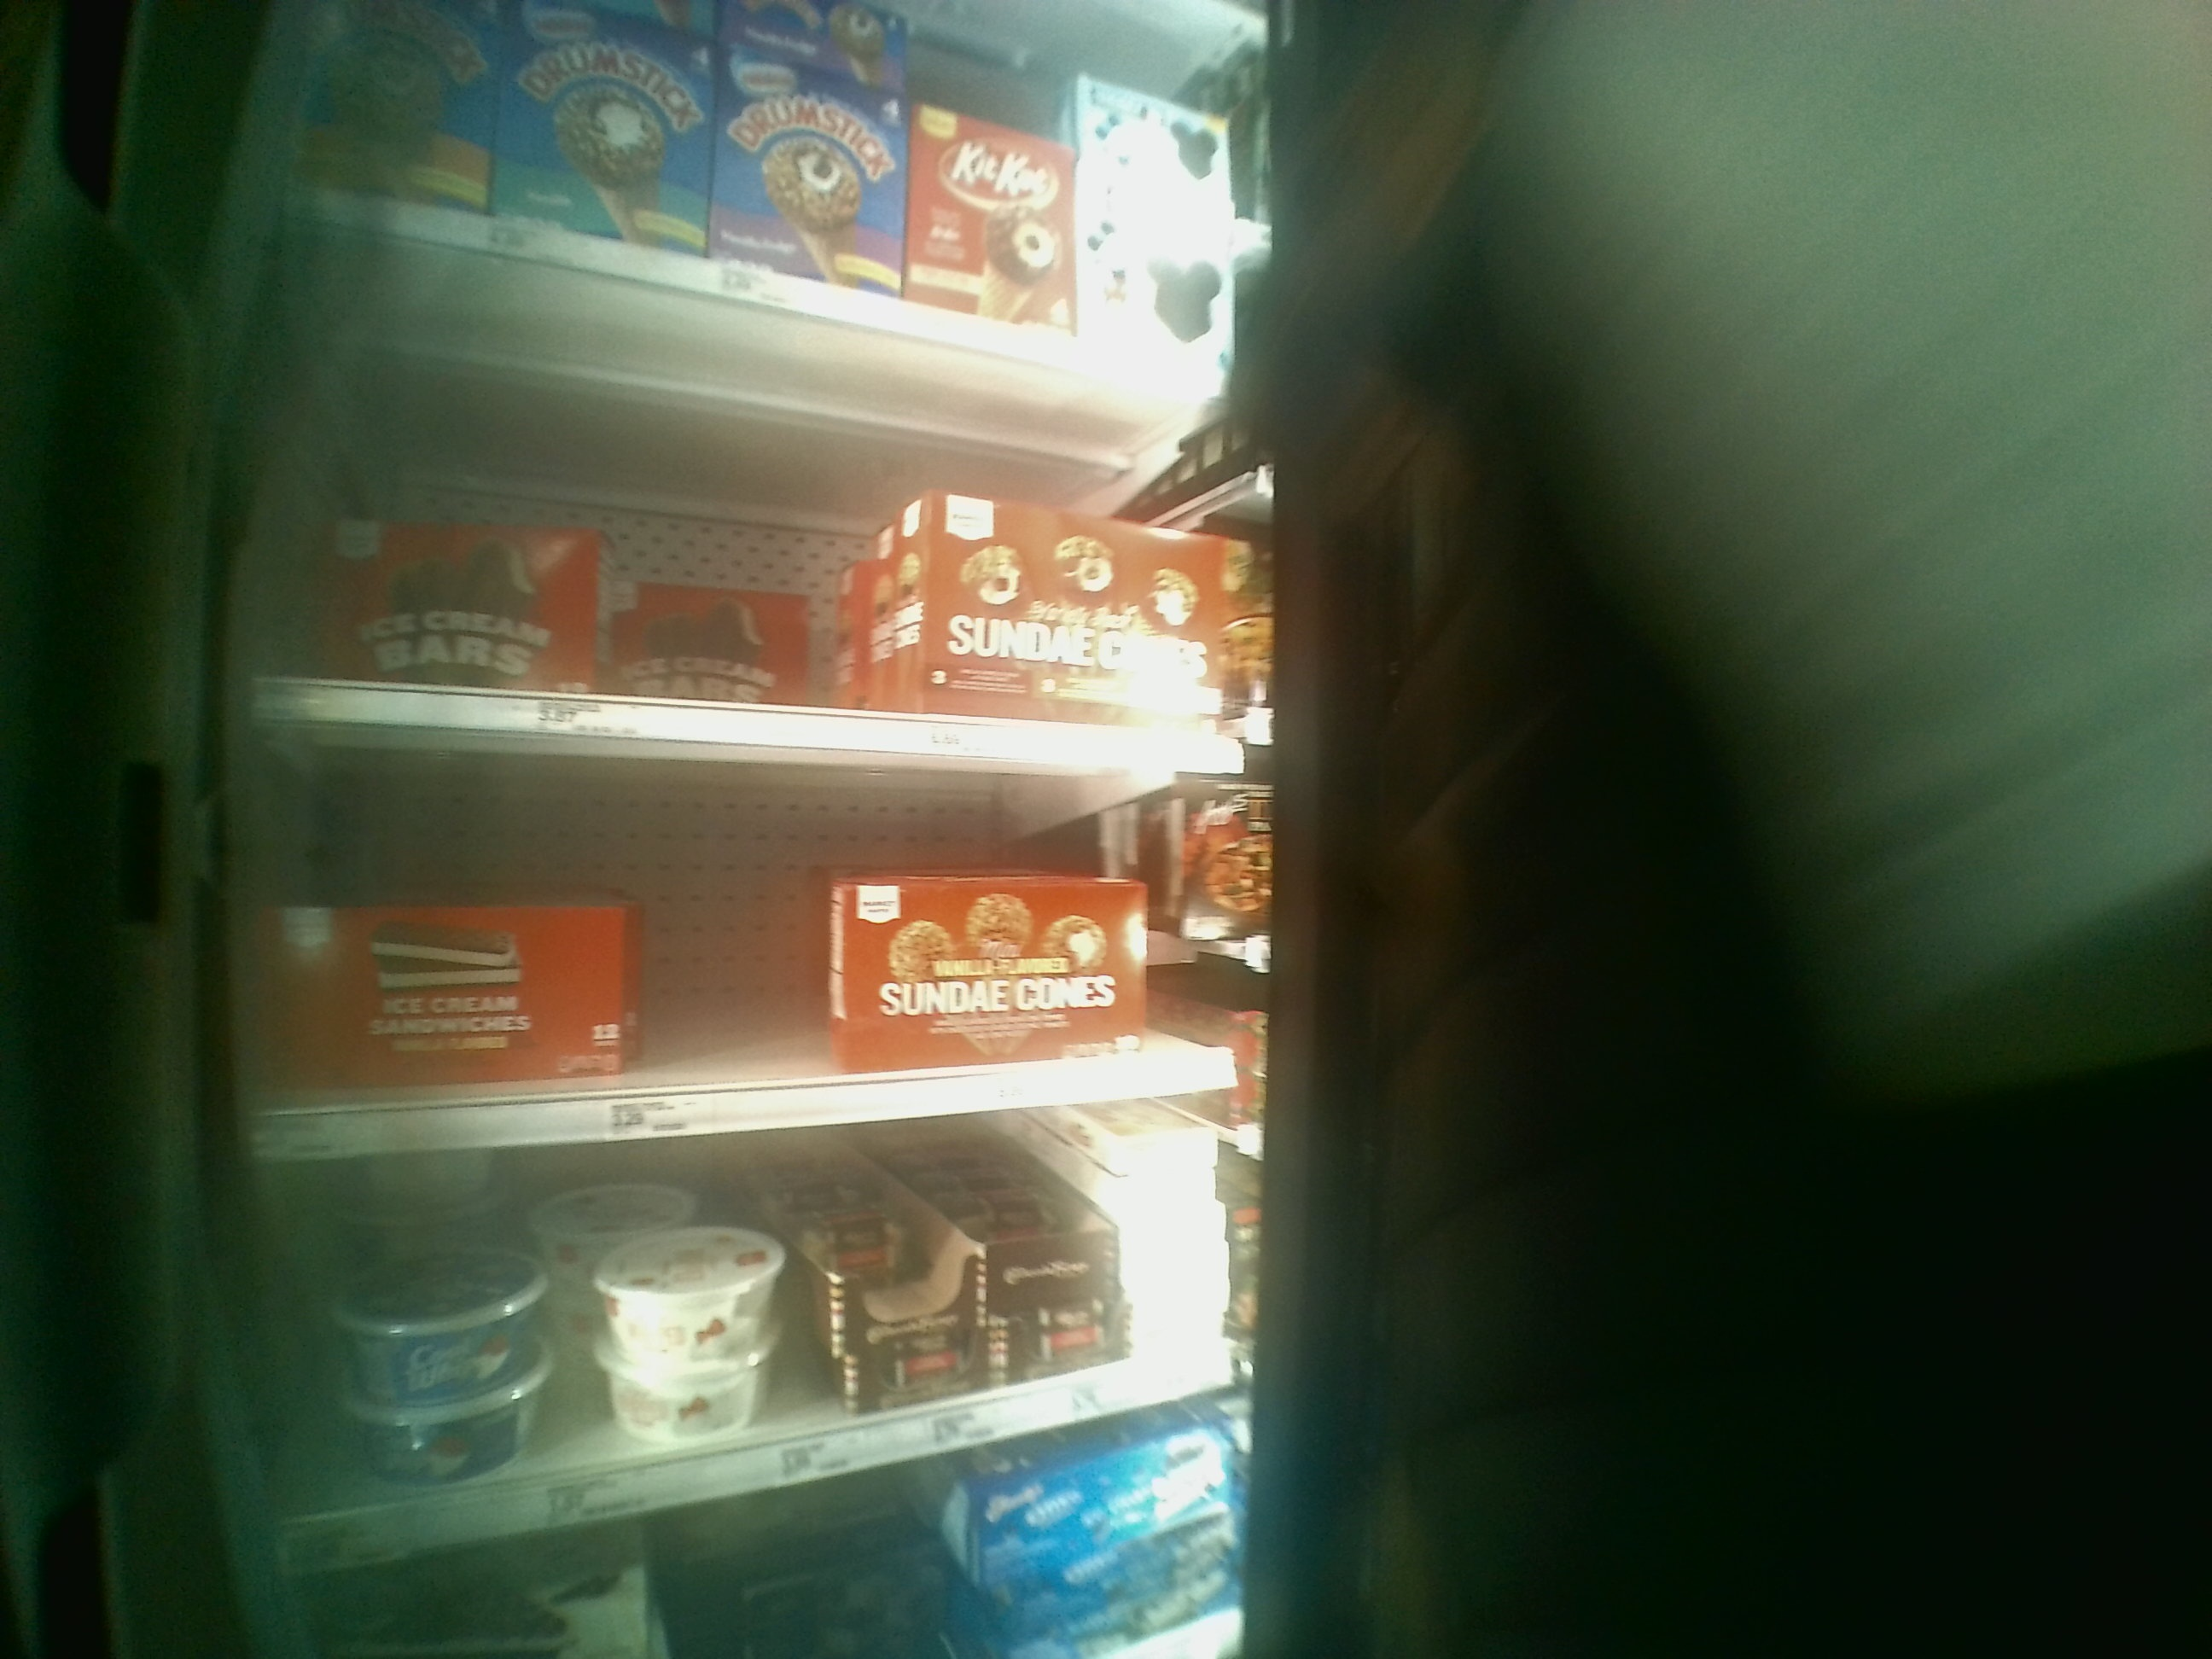shelf: (261, 1080, 1247, 1575), (225, 721, 1263, 1162)
